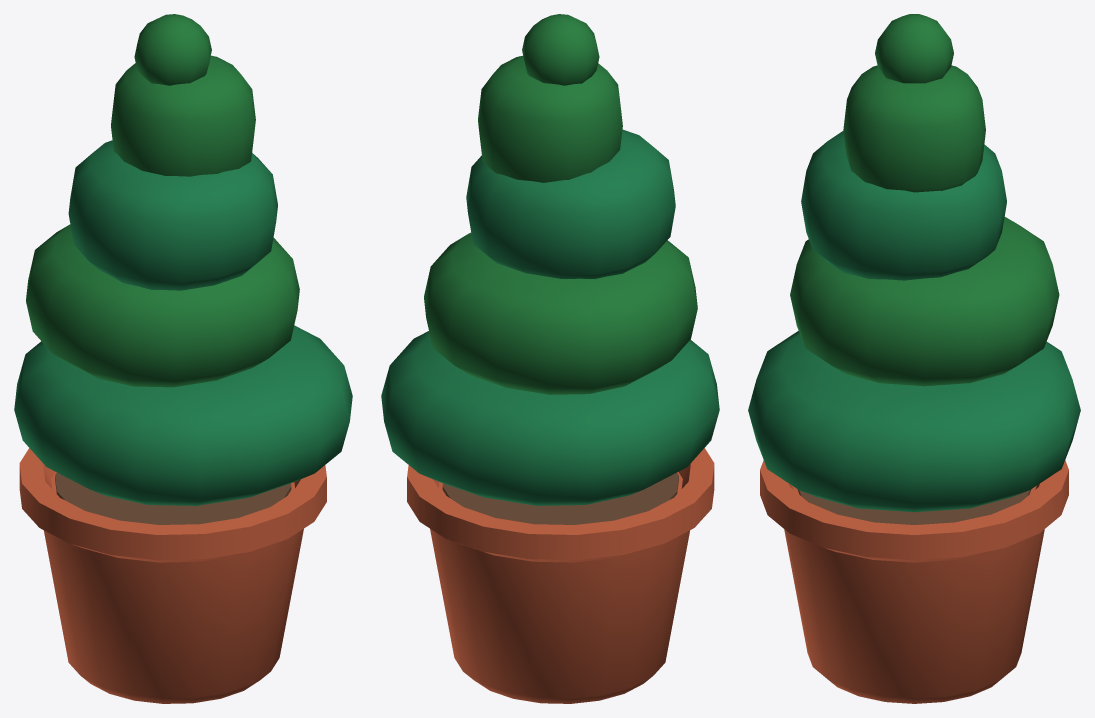
Rendered from topiaria_espiral.glb.
The picture shows the model from 3 angles, left to right: view 1: azimuth 30°, elevation 25°; view 2: azimuth 150°, elevation 25°; view 3: azimuth 270°, elevation 25°; orthographic projection.
Visible parts, largest first — view 1: topiaria_espiral; view 2: topiaria_espiral; view 3: topiaria_espiral.
Boxes of the visible parts, x1=… form: topiaria_espiral: x1=14, y1=14, x2=352, y2=703; topiaria_espiral: x1=381, y1=14, x2=719, y2=703; topiaria_espiral: x1=748, y1=14, x2=1080, y2=703.
Size of the model in its own units: 0.84 by 1.8 by 0.84.
Materials: 1 (1 with a texture image).
